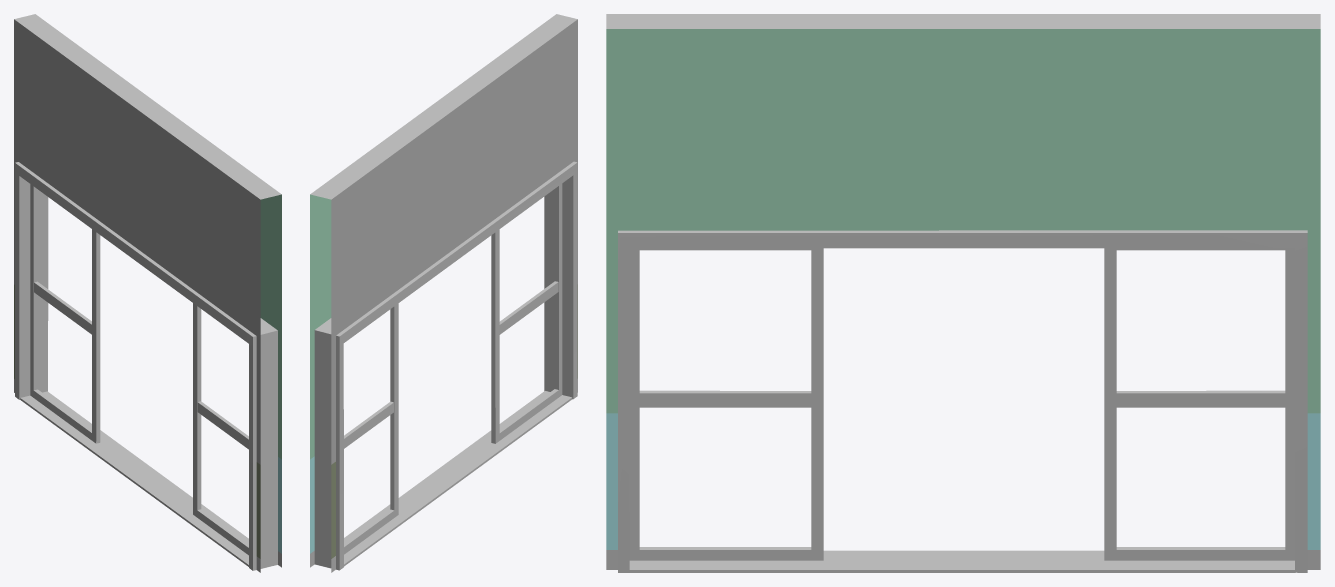
Rendered from SM_DoorFrame_C_400.fbx.
3 views of the same model, side by side, from view 1: azimuth 30°, elevation 25°; view 2: azimuth 150°, elevation 25°; view 3: azimuth 270°, elevation 25° (orthographic). The views are drawn at different scales.
Visible parts, largest first — view 1: SM_DoorFrame_C_400; view 2: SM_DoorFrame_C_400; view 3: SM_DoorFrame_C_400.
Boxes of the visible parts, x1,y1,x2,y2 form: SM_DoorFrame_C_400: [14, 14, 281, 572]; SM_DoorFrame_C_400: [310, 14, 577, 572]; SM_DoorFrame_C_400: [606, 14, 1320, 572].
Size of the model in its own units: 27.28 by 335 by 400.
